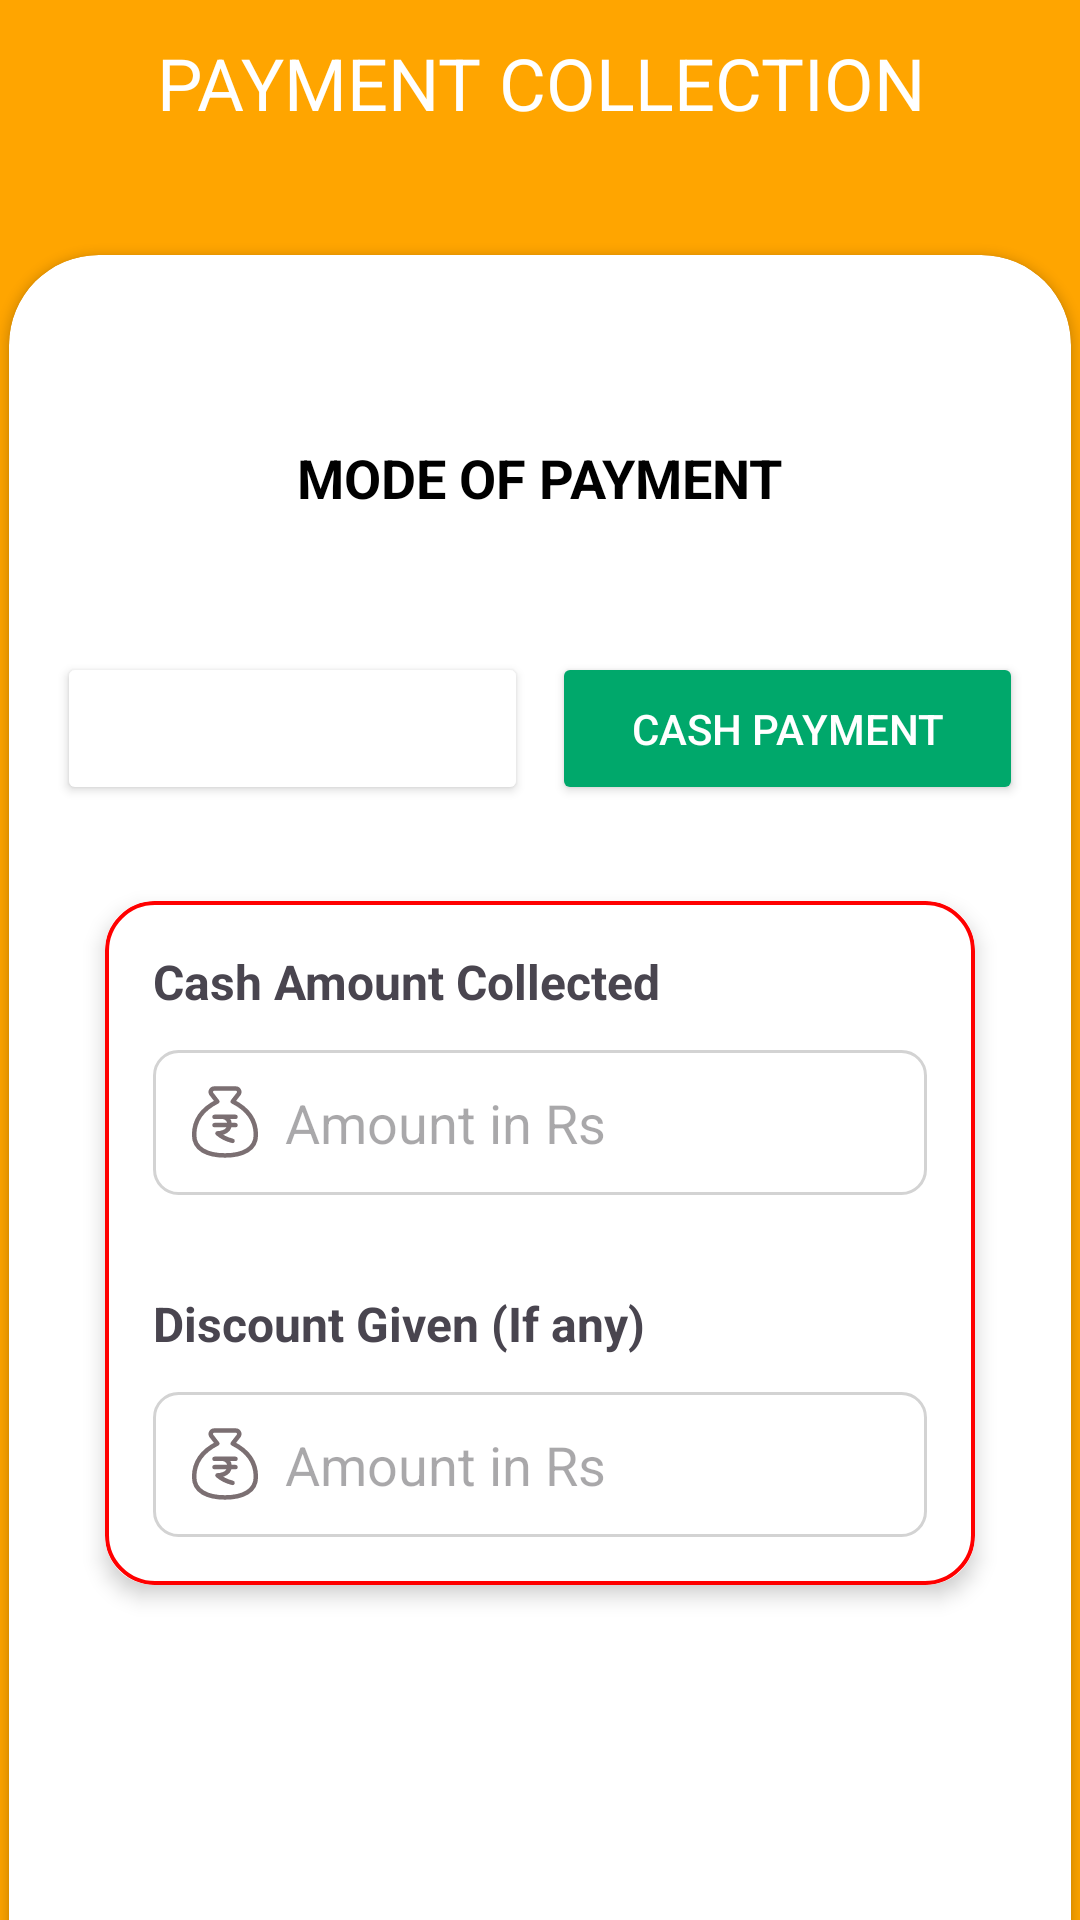

Locate icon controls on the screen. Image size 1080 x 1920, boxes as bbox=(x1, y1, x2, y2).
streamline bag rupee: bbox=(192, 1086, 258, 1158), bbox=(192, 1428, 258, 1500)
